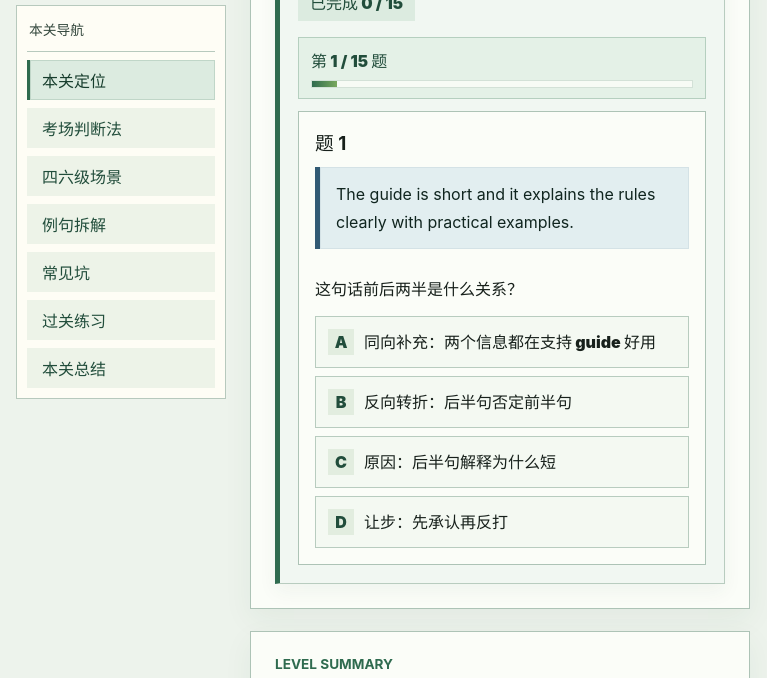
Test: LevelSixPage › renders the logic-connector lesson and gives instant feedback
(page scrolled)
Expected: the navigation bar named "第 6 关学习路线" is shown, [16,5,226,399]
Expected: the heading "题 1" is shown, [315,128,346,155]
Click the button "A 同向补充：两个信息都在支持 guide 好用" at {"x": 502, "y": 342}, box [315,316,689,368]
(page scrolled)
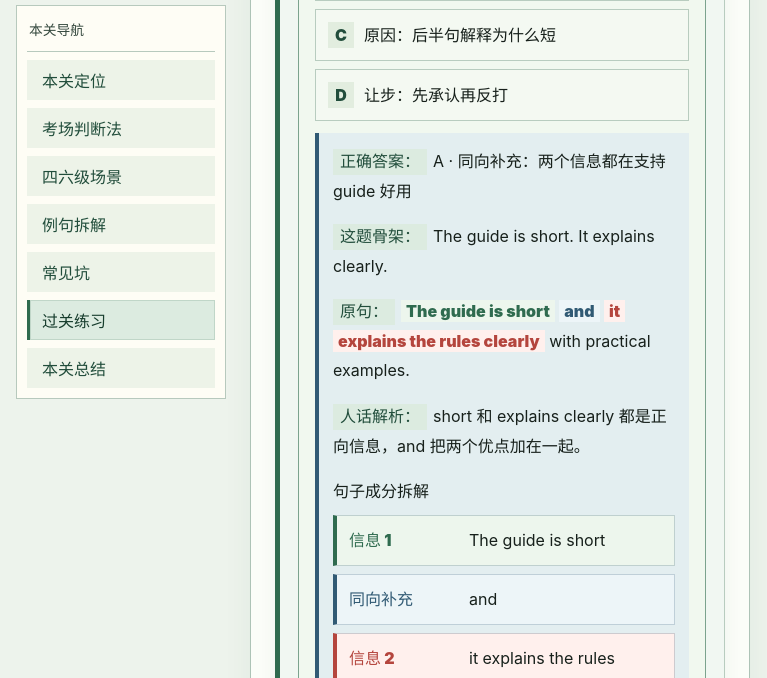
Now the element named "原句标色" shows "The guide is short", box [406,301,550,321]
